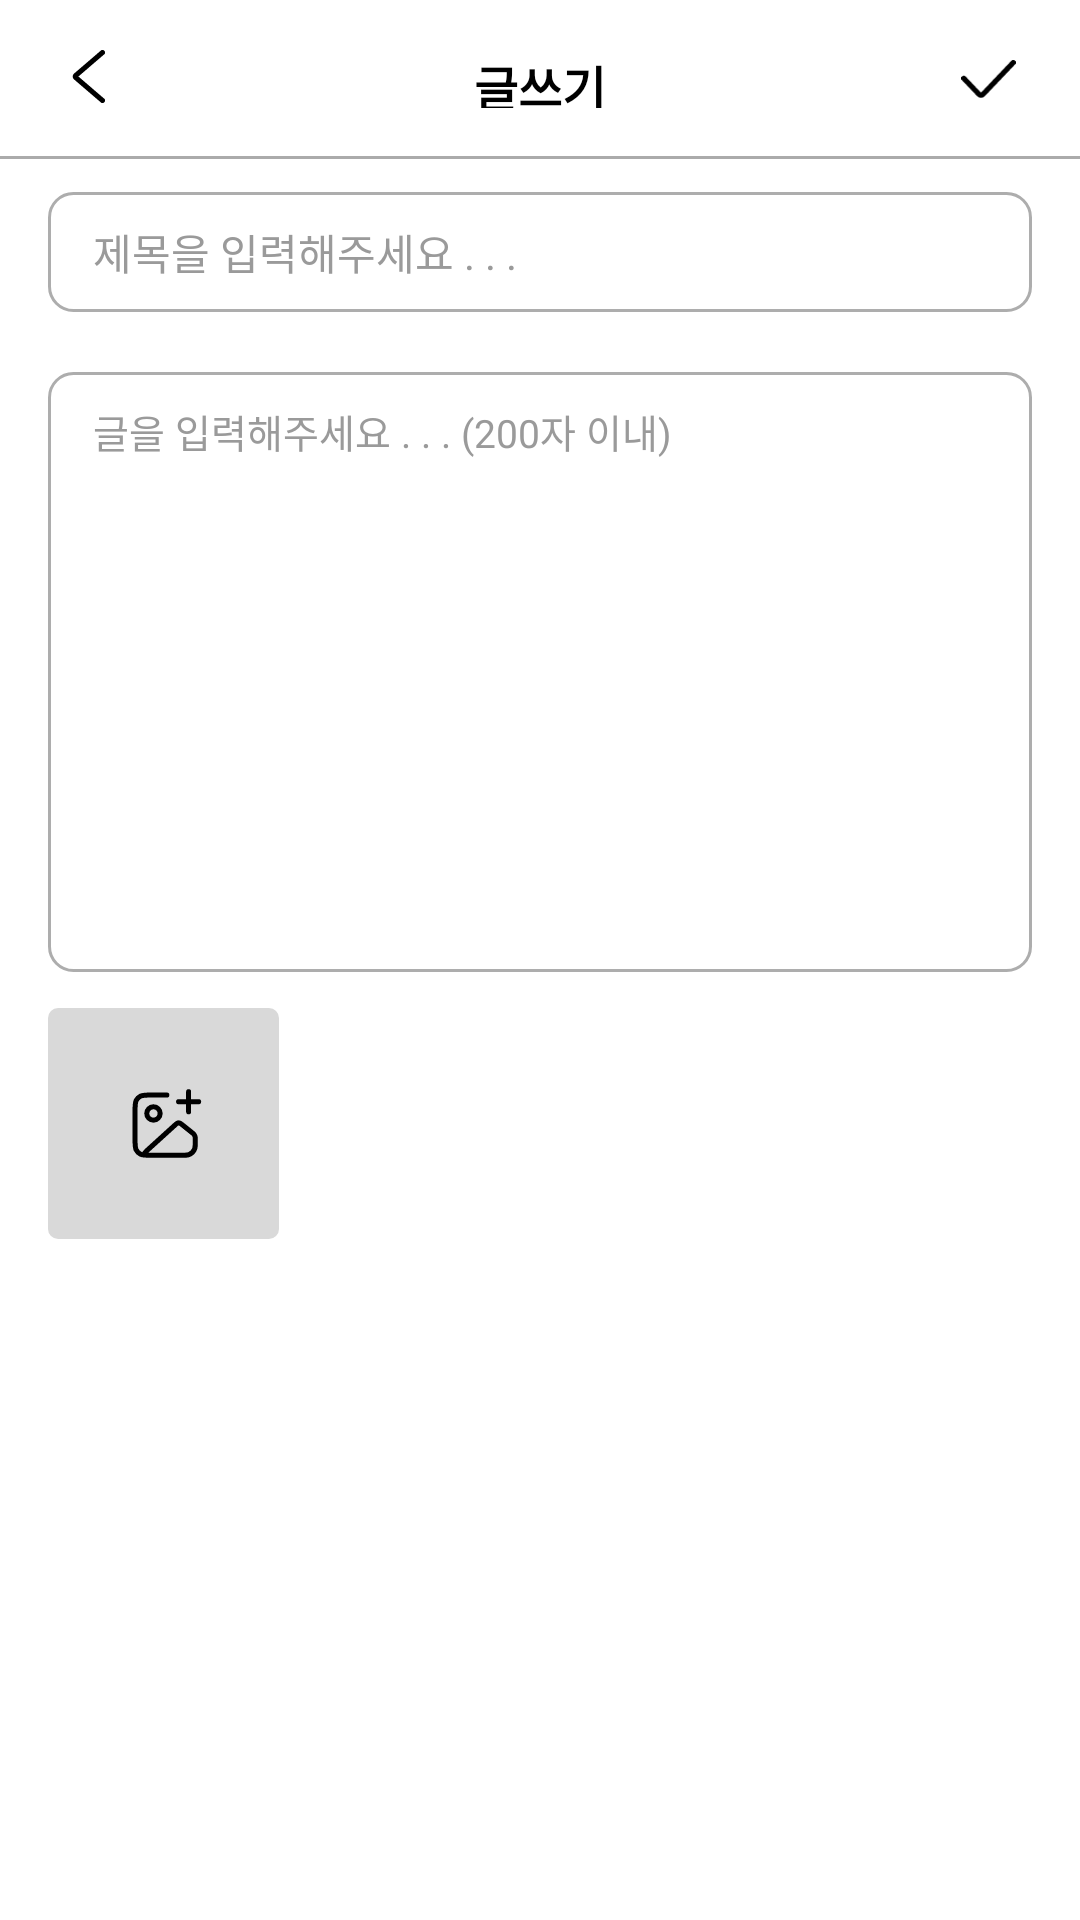

Named icons in this screenshot (1080px x 1920px) and their bounding boxes, rect(x1, y1, x2, y2):
back arrow: rect(72, 50, 105, 103)
check: rect(961, 60, 1016, 98)
